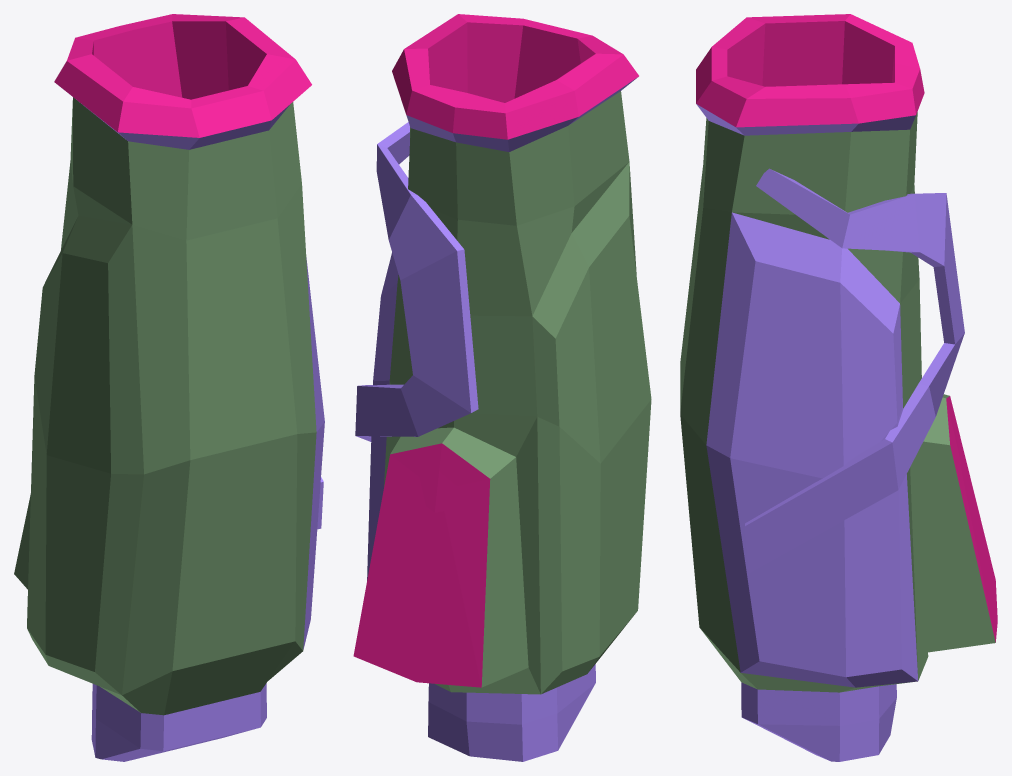
File: 066_Golfbag.fbx
3 renders of one model, left to right at view 1: azimuth 30°, elevation 25°; view 2: azimuth 150°, elevation 25°; view 3: azimuth 270°, elevation 25°, orthographic. The views are drawn at different scales.
Visible parts, largest first — view 1: GOLFBAG; view 2: GOLFBAG; view 3: GOLFBAG.
Boxes of the visible parts, box(x1,y1,x2,y2) form: GOLFBAG: box(14, 14, 324, 761); GOLFBAG: box(353, 14, 651, 761); GOLFBAG: box(680, 14, 997, 761).
Size of the model in its own units: 35.04 by 101 by 42.42.
